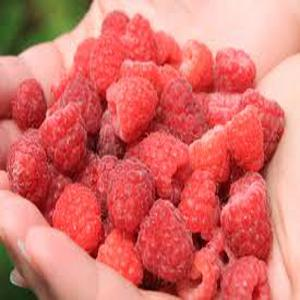raspb: (65, 44, 280, 244)
